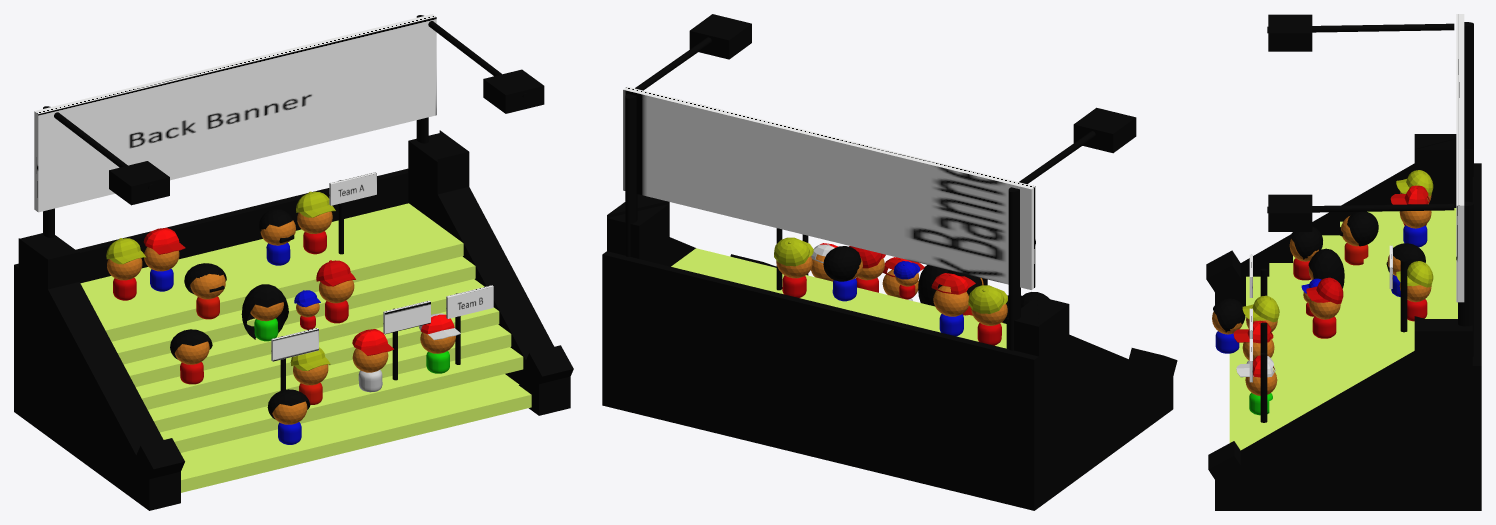
Rendered from StadiumSeat.obj.
3 views of the same model, side by side, from view 1: azimuth 30°, elevation 25°; view 2: azimuth 150°, elevation 25°; view 3: azimuth 270°, elevation 25° (orthographic). The views are drawn at different scales.
Visible parts, largest first — view 1: Seat_StadiumSits1_Cube.001, BannerBack_Cylinder.004, Light.l.001_Cylinder.003, Light.l_Cylinder, P7_Icosphere.005, P2_Baseball_Cap_01_Circle.002, P11_Baseball_Cap_01_Circle.001, P6_RedAudience.002, P4_baseball_cap.002, P1_baseball_cap, P5_Hairs.001, P9_Hairs (+9 smaller); view 2: Seat_StadiumSits1_Cube.001, BannerBack_Cylinder.004, Light.l_Cylinder, Light.l.001_Cylinder.003, P2_Baseball_Cap_01_Circle.002, P1_baseball_cap, P4_baseball_cap.002, P3_Hairs.002, P6_RedAudience.002, P14_baseball_cap.003, P7_Icosphere.005, P11_Baseball_Cap_01_Circle.001; view 3: Seat_StadiumSits1_Cube.001, BannerBack_Cylinder.004, Light.l_Cylinder, Light.l.001_Cylinder.003, P6_RedAudience.002, P5_Hairs.001, P2_Baseball_Cap_01_Circle.002, P13_Hairs.004, P4_baseball_cap.002, P12_Baseball_Cap_01_Circle.004, P9_Hairs, P7_Icosphere.005 (+8 smaller).
Part boxes in pixels (x1,y1,x2,y2): Seat_StadiumSits1_Cube.001: [14, 130, 573, 510]; BannerBack_Cylinder.004: [34, 14, 436, 237]; Light.l.001_Cylinder.003: [428, 21, 544, 113]; Light.l_Cylinder: [54, 112, 169, 205]; P7_Icosphere.005: [241, 284, 288, 341]; P2_Baseball_Cap_01_Circle.002: [143, 227, 185, 291]; P11_Baseball_Cap_01_Circle.001: [352, 329, 394, 392]; P6_RedAudience.002: [316, 260, 355, 323]; P4_baseball_cap.002: [296, 191, 335, 254]; P1_baseball_cap: [106, 238, 146, 300]; P5_Hairs.001: [184, 263, 226, 319]; P9_Hairs: [170, 329, 212, 384]; Seat_StadiumSits1_Cube.001: [602, 194, 1177, 510]; BannerBack_Cylinder.004: [623, 86, 1035, 350]; Light.l_Cylinder: [1019, 107, 1136, 184]; Light.l.001_Cylinder.003: [635, 14, 751, 90]; P2_Baseball_Cap_01_Circle.002: [931, 273, 975, 336]; P1_baseball_cap: [968, 285, 1007, 345]; P4_baseball_cap.002: [774, 237, 813, 297]; P3_Hairs.002: [823, 246, 862, 301]; P6_RedAudience.002: [849, 246, 885, 292]; P14_baseball_cap.003: [893, 261, 920, 299]; P7_Icosphere.005: [918, 265, 949, 306]; P11_Baseball_Cap_01_Circle.001: [882, 257, 924, 300]; Seat_StadiumSits1_Cube.001: [1206, 134, 1481, 510]; BannerBack_Cylinder.004: [1456, 14, 1473, 356]; Light.l_Cylinder: [1267, 14, 1454, 51]; Light.l.001_Cylinder.003: [1267, 194, 1454, 231]; P6_RedAudience.002: [1306, 277, 1343, 338]; P5_Hairs.001: [1339, 211, 1378, 265]; P2_Baseball_Cap_01_Circle.002: [1390, 185, 1431, 247]; P13_Hairs.004: [1212, 298, 1245, 353]; P4_baseball_cap.002: [1396, 261, 1433, 321]; P12_Baseball_Cap_01_Circle.004: [1236, 355, 1277, 415]; P9_Hairs: [1289, 226, 1322, 280]; P7_Icosphere.005: [1308, 248, 1344, 288].
Bounding box in the file's own units: 21.84 × 15.05 × 12.5.
18 materials, 1 textured.
